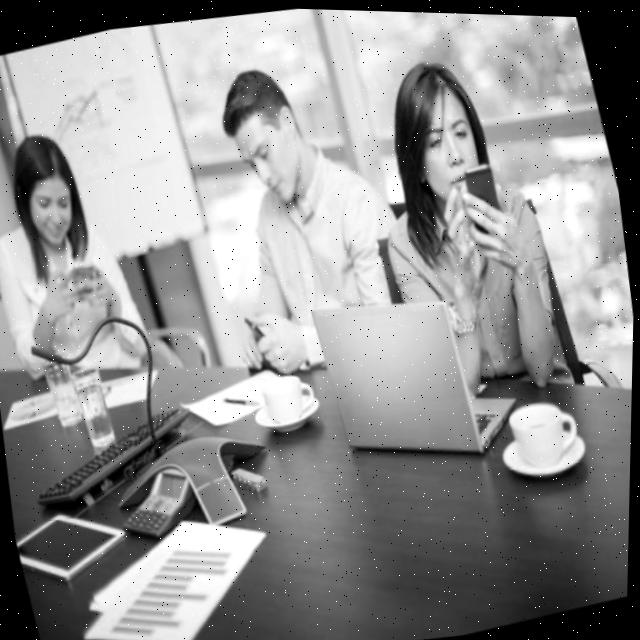phone: (459, 155, 508, 235), (70, 257, 103, 295), (245, 310, 269, 340)
